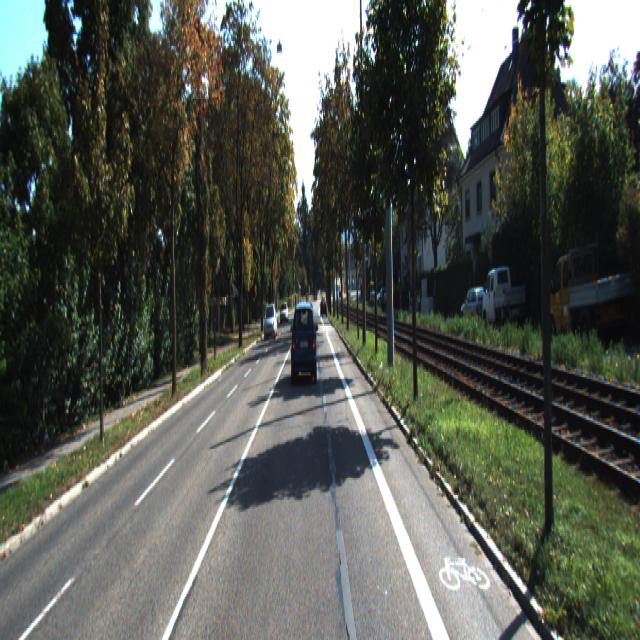Car: (292, 300, 318, 386), (461, 285, 490, 326), (264, 303, 277, 340)
DontCare: (371, 283, 386, 306), (279, 299, 288, 325), (321, 298, 326, 316)
Van: (546, 240, 633, 346), (482, 262, 526, 325)
